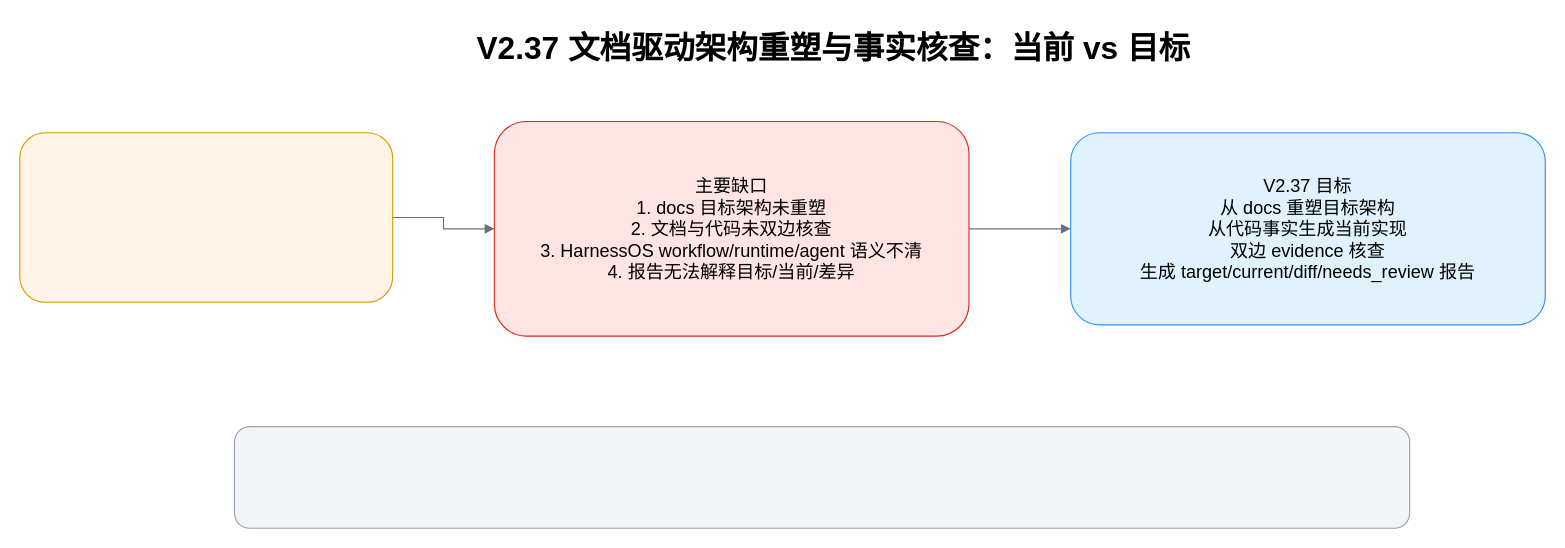
This 1565x548 diagram has some shape labels left out. Each missing label, with the centre of its shape:
当前 V2.31-V2.36 事实层和任务导航已可用 但架构图偏目录/数量枚举: point 206,217
边界：不承诺完整设计意图恢复、不做 full call graph、不做 HarnessOS 专用硬编码: point 821,476
